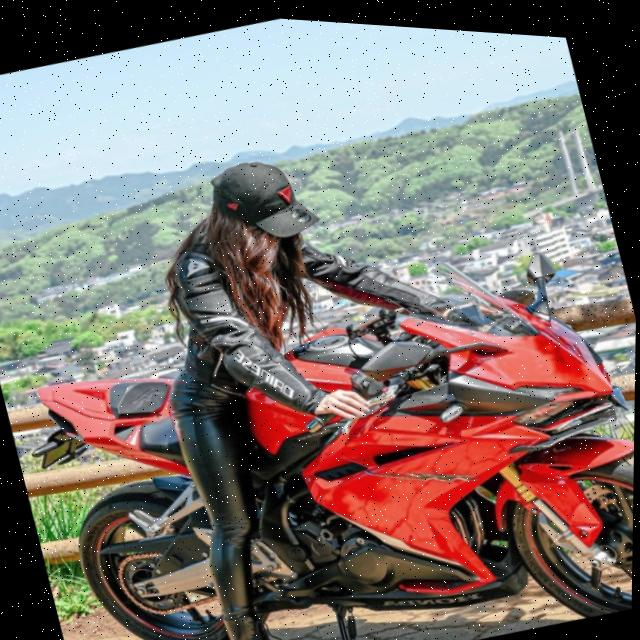illegal_helmet: (199, 136, 335, 279)
